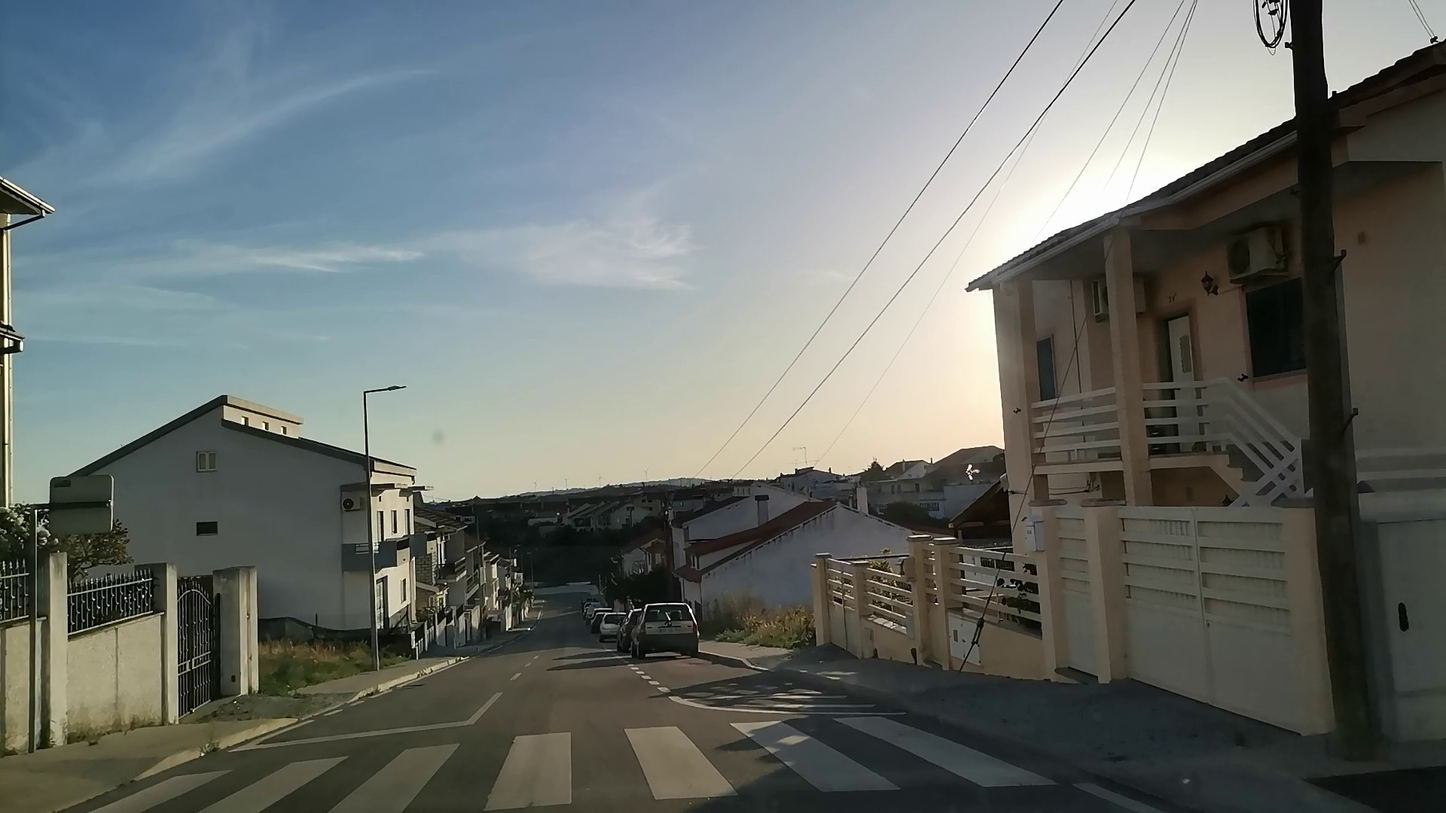Stairs: (49, 710, 1049, 813)
